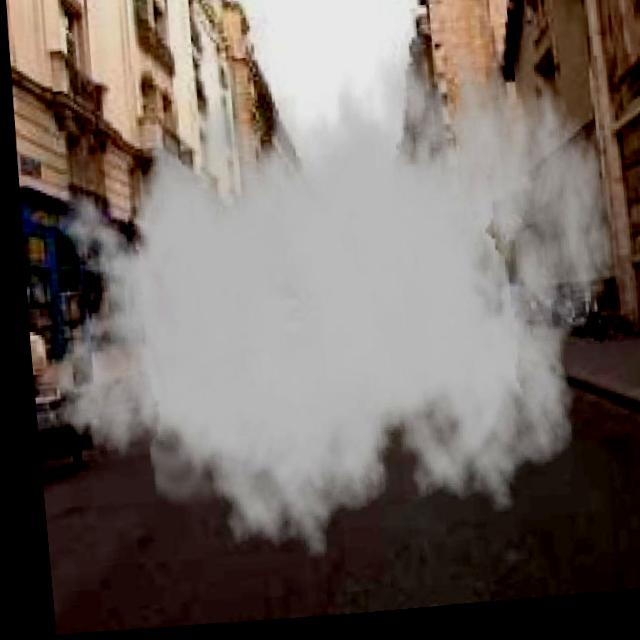Smoke: (30, 0, 623, 584)
